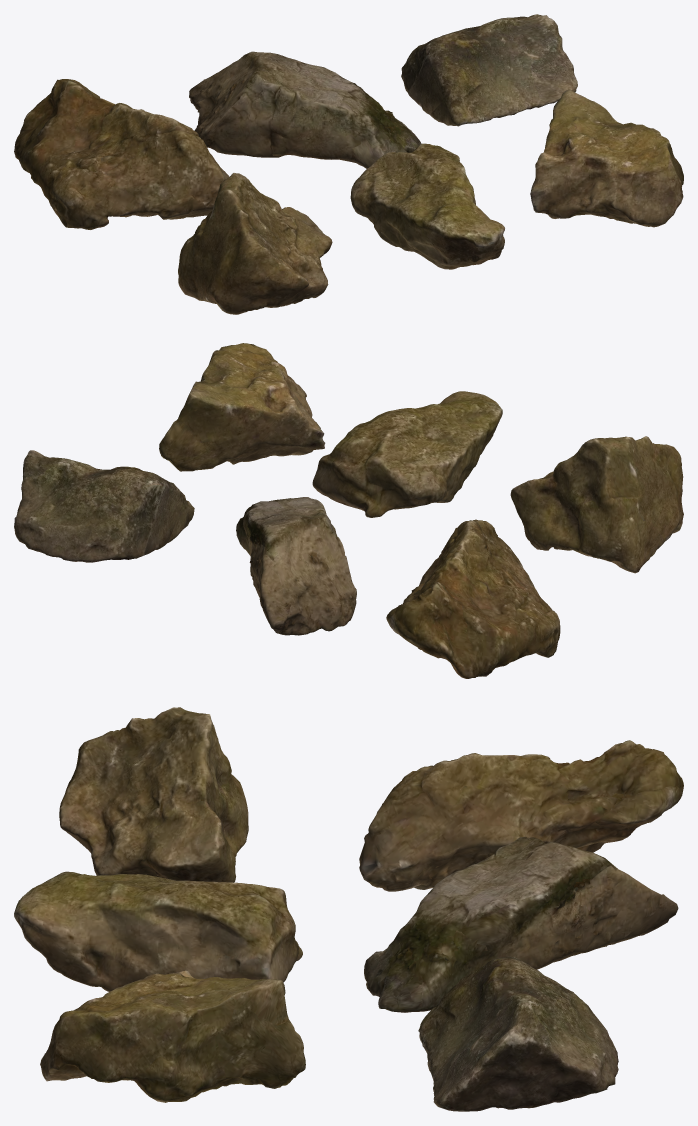
The model's file is rock_moss_set_01.glb.
3 views of the same model, one above another, from view 1: azimuth 30°, elevation 25°; view 2: azimuth 150°, elevation 25°; view 3: azimuth 270°, elevation 25° (orthographic). The views are drawn at different scales.
Visible parts, largest first — view 1: rock_moss_set_01_rock01, rock_moss_set_01_rock02, rock_moss_set_01_rock06, rock_moss_set_01_rock04, rock_moss_set_01_rock03, rock_moss_set_01_rock05; view 2: rock_moss_set_01_rock04, rock_moss_set_01_rock01, rock_moss_set_01_rock05, rock_moss_set_01_rock03, rock_moss_set_01_rock06, rock_moss_set_01_rock02; view 3: rock_moss_set_01_rock01, rock_moss_set_01_rock02, rock_moss_set_01_rock05, rock_moss_set_01_rock06, rock_moss_set_01_rock04, rock_moss_set_01_rock03.
Part boxes in pixels (box(x1,y1,x2,y2)): rock_moss_set_01_rock01: box(14, 79, 229, 229); rock_moss_set_01_rock02: box(189, 51, 421, 168); rock_moss_set_01_rock06: box(530, 89, 683, 227); rock_moss_set_01_rock04: box(178, 173, 332, 314); rock_moss_set_01_rock03: box(401, 14, 577, 126); rock_moss_set_01_rock05: box(350, 143, 504, 269); rock_moss_set_01_rock04: box(510, 436, 683, 573); rock_moss_set_01_rock01: box(386, 519, 560, 678); rock_moss_set_01_rock05: box(312, 391, 502, 517); rock_moss_set_01_rock03: box(14, 450, 194, 562); rock_moss_set_01_rock06: box(159, 343, 325, 471); rock_moss_set_01_rock02: box(236, 497, 356, 635); rock_moss_set_01_rock01: box(359, 740, 683, 891); rock_moss_set_01_rock02: box(364, 836, 678, 1012); rock_moss_set_01_rock05: box(14, 871, 302, 991); rock_moss_set_01_rock06: box(40, 970, 305, 1102); rock_moss_set_01_rock04: box(59, 707, 248, 882); rock_moss_set_01_rock03: box(418, 956, 618, 1111).
Bounding box in the file's own units: 8 × 1.77 × 6.95.
Materials: 1 (1 with a texture image).
